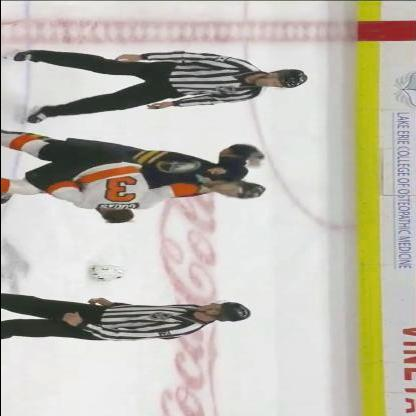non-Voilence: (18, 50, 306, 124), (0, 297, 250, 342)
voilence: (1, 138, 269, 224)
